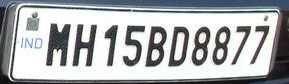1: (104, 24, 119, 68)
5: (121, 24, 146, 68)
7: (232, 25, 252, 68), (250, 24, 270, 67)
8: (191, 26, 211, 68), (212, 26, 230, 66)
B: (145, 25, 166, 68)
D: (168, 26, 191, 69)
H: (72, 23, 97, 68)
M: (45, 22, 72, 69)
